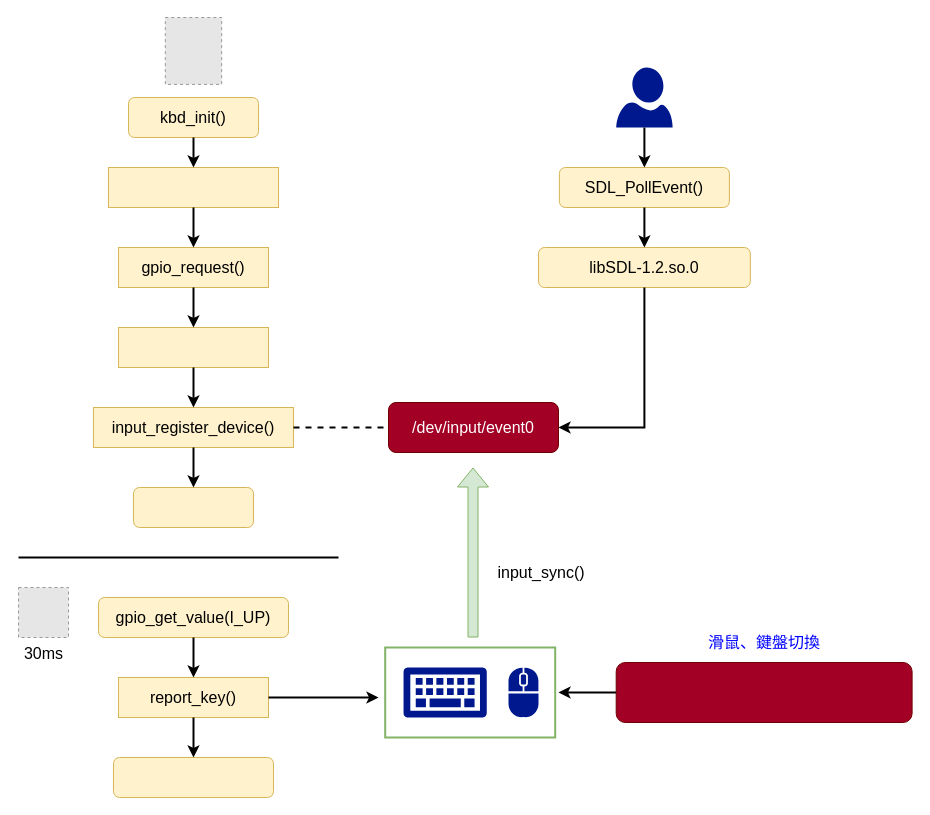
Image size: 930x815. Some labels were removed from this diagram. Grey dashed boxes stand in for pictures. Each missing label, with the centre of its shape:
/sys/devices/virtual/input/input0/mode: (x=763, y=692)
do_input_request(): (x=193, y=187)
mod_timer(): (x=193, y=777)
set_bit(EV_KEY): (x=193, y=347)
setup_timer(): (x=193, y=507)
